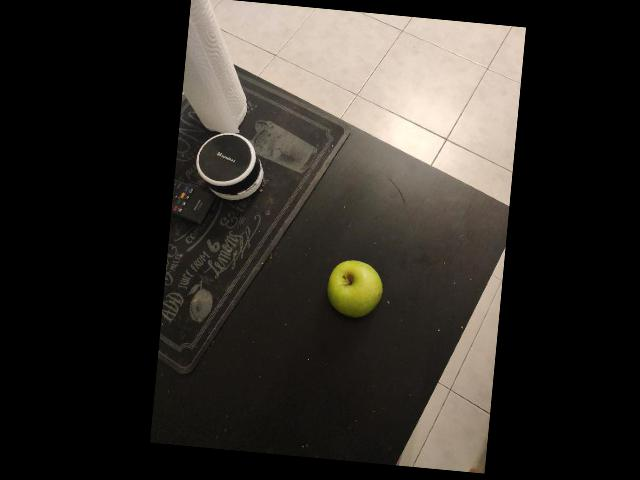apple: (415, 134, 486, 201)
